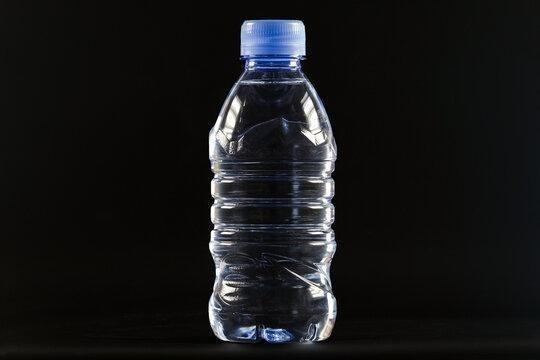bottle-plastic: (204, 14, 341, 348)
